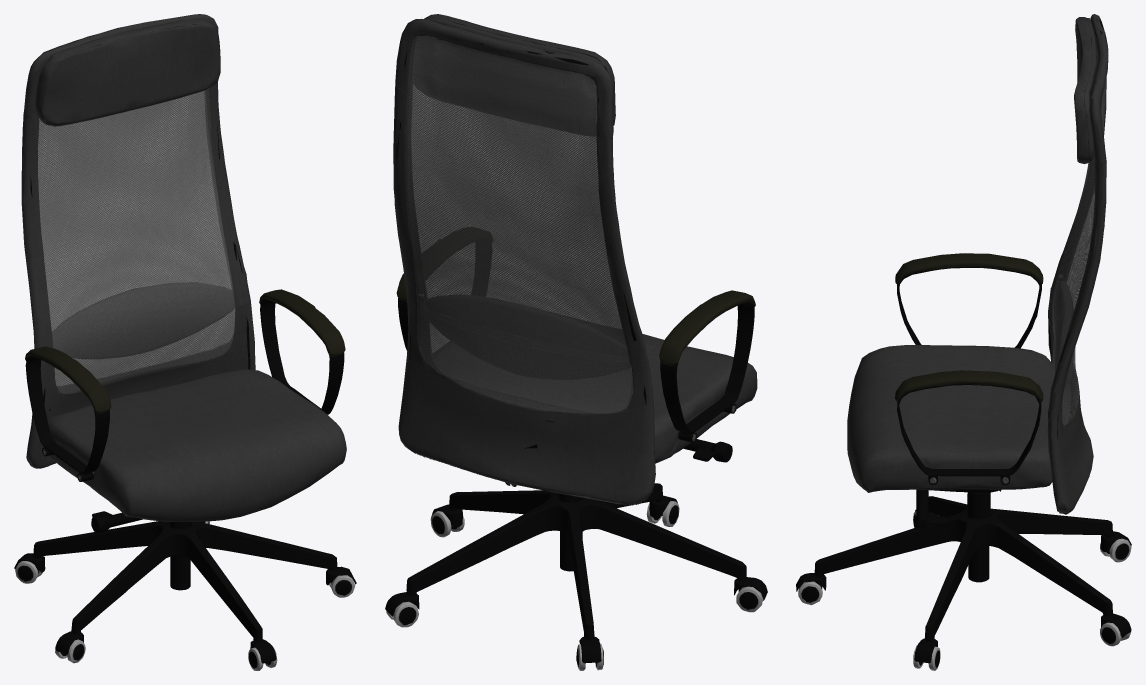
Rendered from markus_krzeso_biurowe_10588801.glb.
3 views of the same model, side by side, from view 1: azimuth 30°, elevation 25°; view 2: azimuth 150°, elevation 25°; view 3: azimuth 270°, elevation 25° (orthographic). The views are drawn at different scales.
Visible parts, largest first — view 1: markus_krzeso_biurowe_10588801; view 2: markus_krzeso_biurowe_10588801; view 3: markus_krzeso_biurowe_10588801.
Boxes of the visible parts, bbox=[...] form: markus_krzeso_biurowe_10588801: bbox=[14, 14, 356, 670]; markus_krzeso_biurowe_10588801: bbox=[385, 14, 767, 670]; markus_krzeso_biurowe_10588801: bbox=[796, 14, 1131, 670].
Size of the model in its own units: 0.7519 by 1.29 by 0.716.
4 materials, 4 textured.
